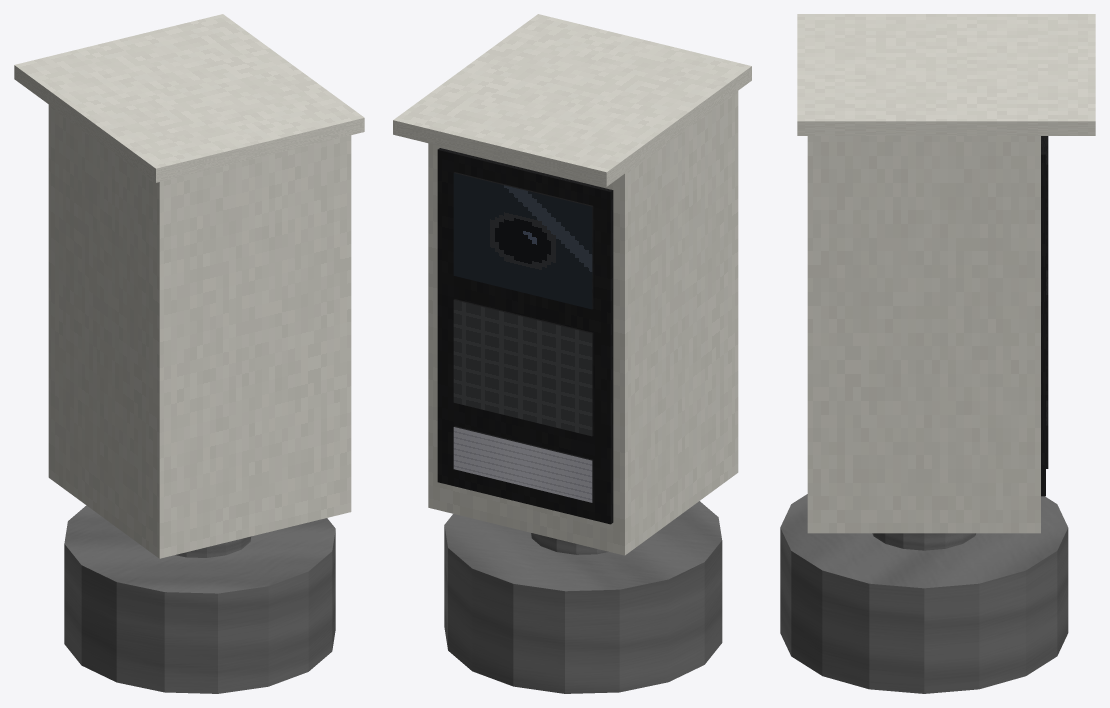
Rendered from speed_camera_top.obj.
3 views of the same model, side by side, from view 1: azimuth 30°, elevation 25°; view 2: azimuth 150°, elevation 25°; view 3: azimuth 270°, elevation 25° (orthographic). The views are drawn at different scales.
Parts seen in each view (by area): view 1: speed_camera_top; view 2: speed_camera_top; view 3: speed_camera_top.
Part boxes in pixels (x1=…): speed_camera_top: x1=14, y1=14, x2=364, y2=693; speed_camera_top: x1=393, y1=14, x2=751, y2=693; speed_camera_top: x1=780, y1=14, x2=1095, y2=693.
Size of the model in its own units: 0.84 by 1.82 by 0.92.
